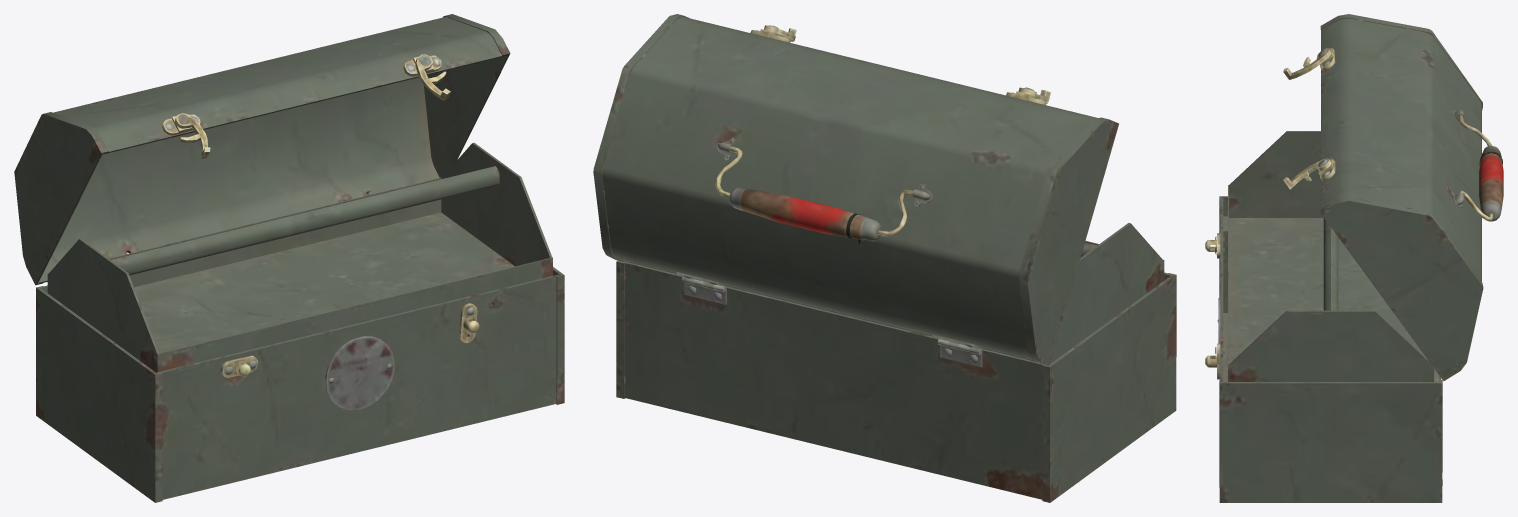
File: toolbox.glb
3 renders of one model, left to right at view 1: azimuth 30°, elevation 25°; view 2: azimuth 150°, elevation 25°; view 3: azimuth 270°, elevation 25°, orthographic. The views are drawn at different scales.
Visible parts, largest first — view 1: metal_toolbox; view 2: metal_toolbox; view 3: metal_toolbox.
Part boxes in pixels (bbox=[...]): metal_toolbox: bbox=[14, 14, 564, 502]; metal_toolbox: bbox=[593, 14, 1176, 502]; metal_toolbox: bbox=[1205, 14, 1503, 502].
Size of the model in its own units: 0.4 by 0.3047 by 0.2702.
Materials: 1 (1 with a texture image).
